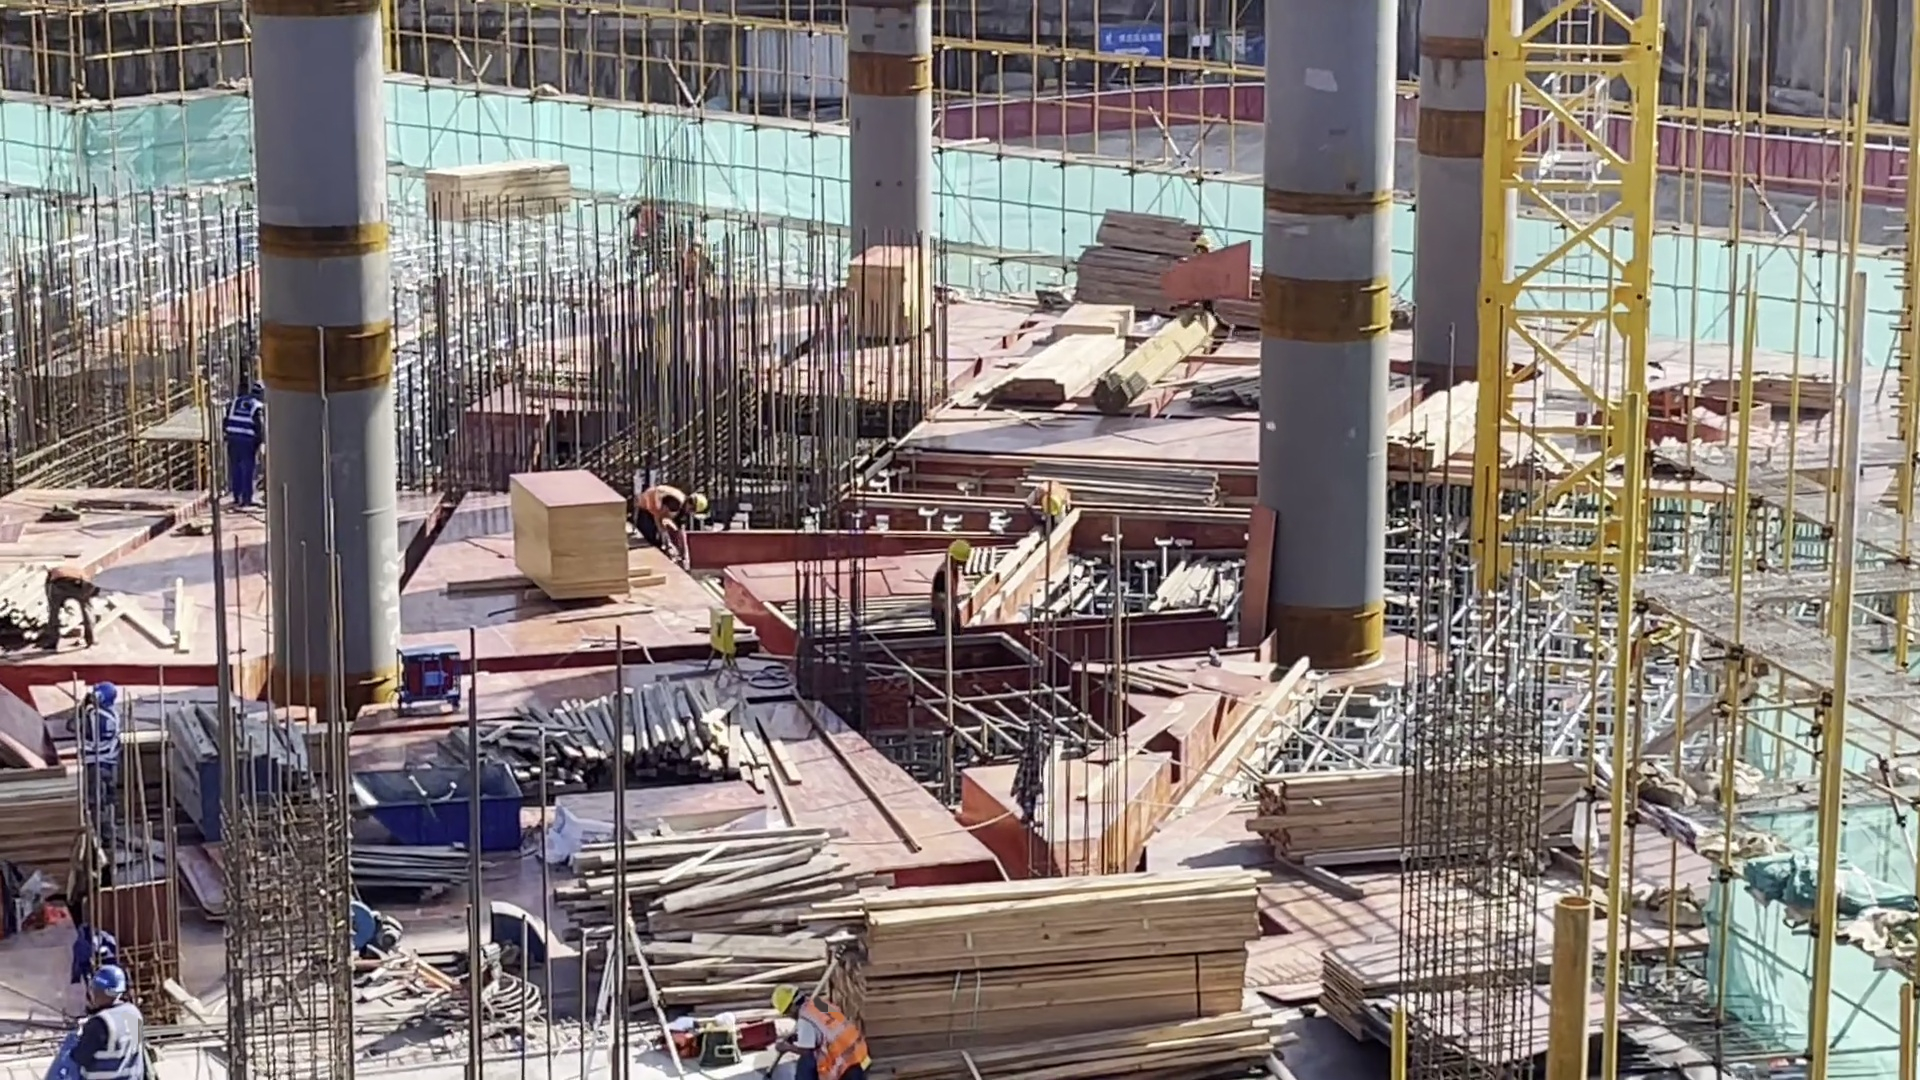board: (510, 468, 631, 600), (1705, 366, 1834, 411)
ebox: (703, 601, 749, 688)
helmet: (91, 966, 125, 993), (770, 983, 800, 1012), (87, 682, 117, 705), (948, 539, 972, 562), (1043, 495, 1061, 517), (696, 495, 708, 512), (253, 381, 265, 393)
hopper: (354, 758, 527, 844)
person: (769, 981, 874, 1080), (67, 961, 148, 1080), (65, 681, 120, 815), (222, 380, 267, 505), (635, 483, 711, 552), (42, 566, 99, 652), (931, 539, 971, 633), (1024, 478, 1072, 524)
vest: (800, 998, 873, 1080), (78, 1003, 148, 1080), (85, 708, 120, 764), (931, 562, 958, 632), (634, 484, 685, 515), (225, 397, 262, 439)
wood: (1077, 207, 1165, 304)
